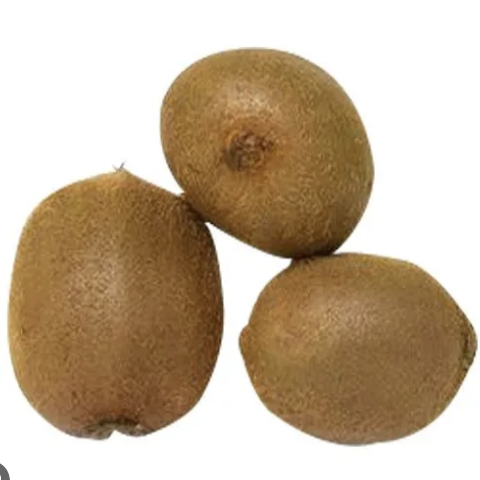kiwi: (0, 148, 234, 466), (143, 30, 398, 278), (226, 253, 477, 471)
